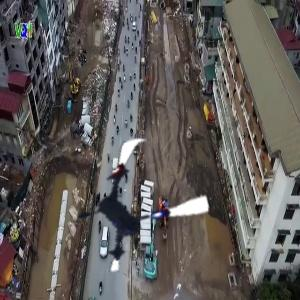drone: (66, 131, 211, 276)
